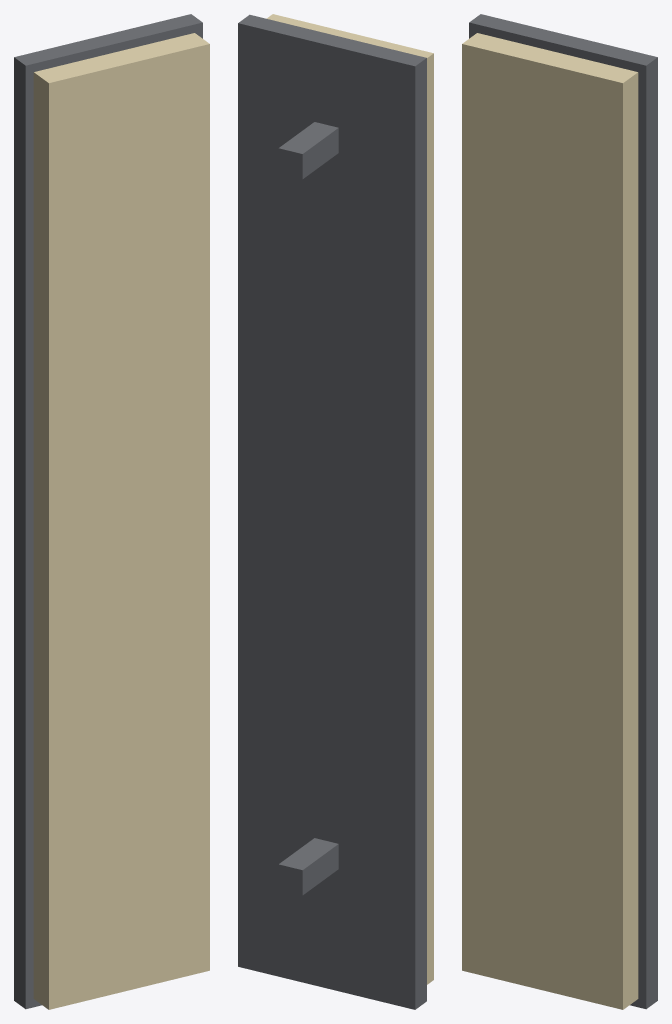
Rendered from PRP_P1_Signboard_Vert_A.obj.
The picture shows the model from 3 angles, left to right: view 1: azimuth 30°, elevation 25°; view 2: azimuth 150°, elevation 25°; view 3: azimuth 330°, elevation 25°; orthographic projection.
Visible parts, largest first — view 1: panel, frame; view 2: frame, panel, mount_top, mount_bot; view 3: panel, frame.
Part boxes in pixels (x1,y1,x2,y2): panel: (33,33,209,1009); frame: (14,14,202,1009); frame: (238,14,426,1009); panel: (266,14,433,984); mount_top: (278,122,338,179); mount_bot: (278,838,338,895); panel: (462,33,638,1009); frame: (469,14,657,1009).
Bounding box in the file's own units: 0.44 × 2.24 × 0.27.
